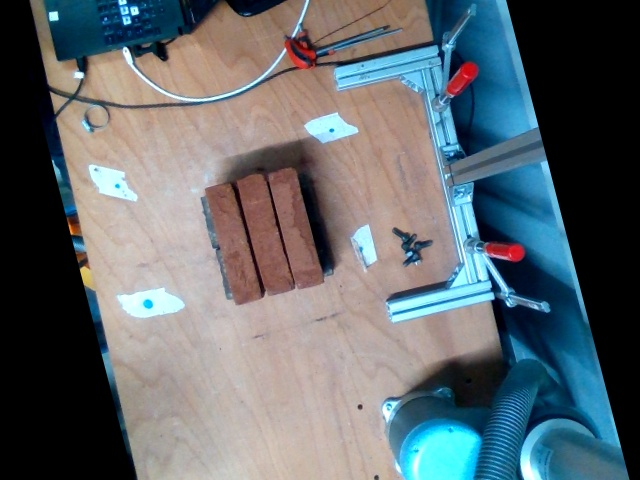brick-side: (204, 183, 262, 305), (265, 167, 322, 289), (236, 173, 293, 295)
